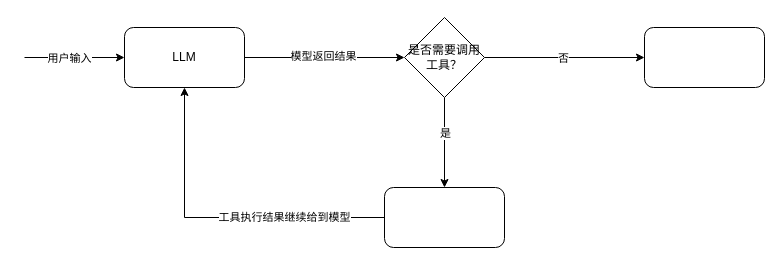
The diagram is 782 pixels wide and 265 high, and some of its shapes have lost their labels. The centre of each missing label's shape, as x and y in pixels:
tool call: point 444,217
输出最终结果: point 704,57
